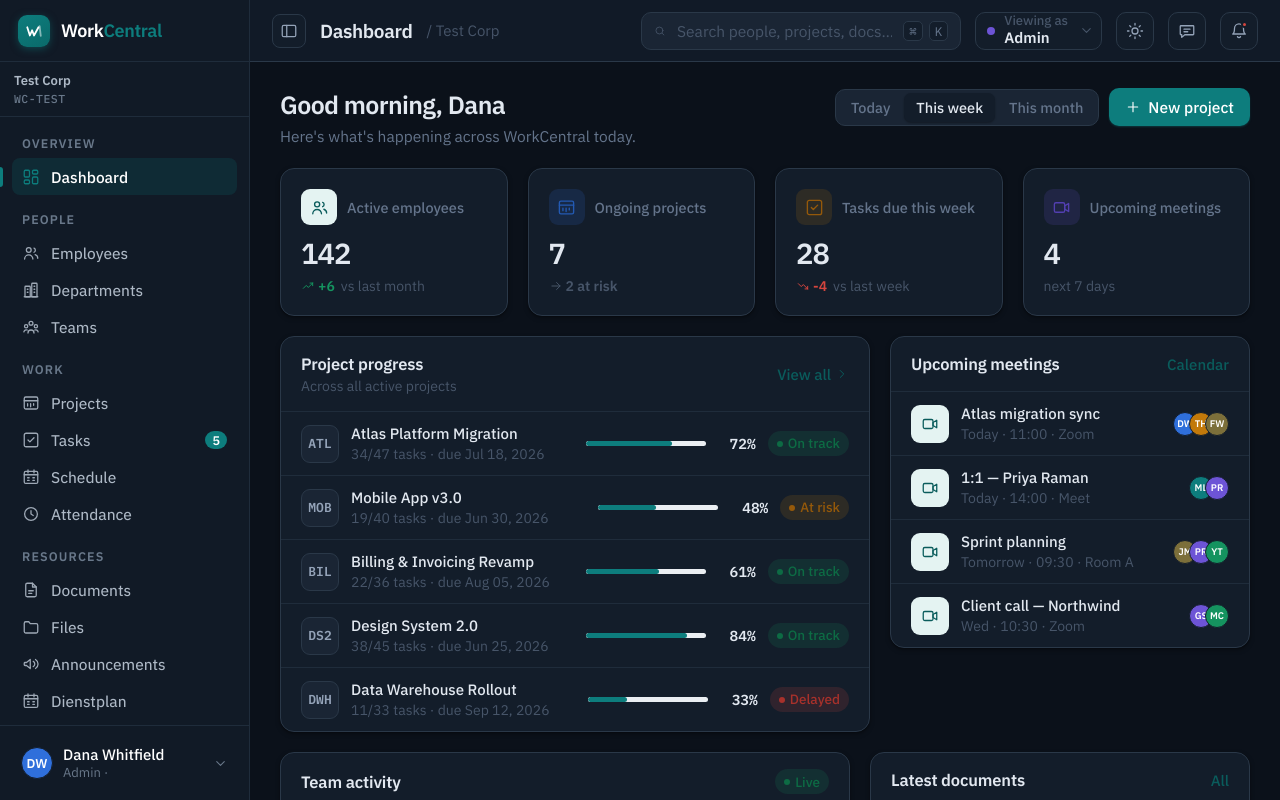
App role-based behavior › role-switcher "Guest" shows LockedPage for employees
Click the element with class "role-switch": click(1039, 30) x1=975 y1=12 x2=1102 y2=50
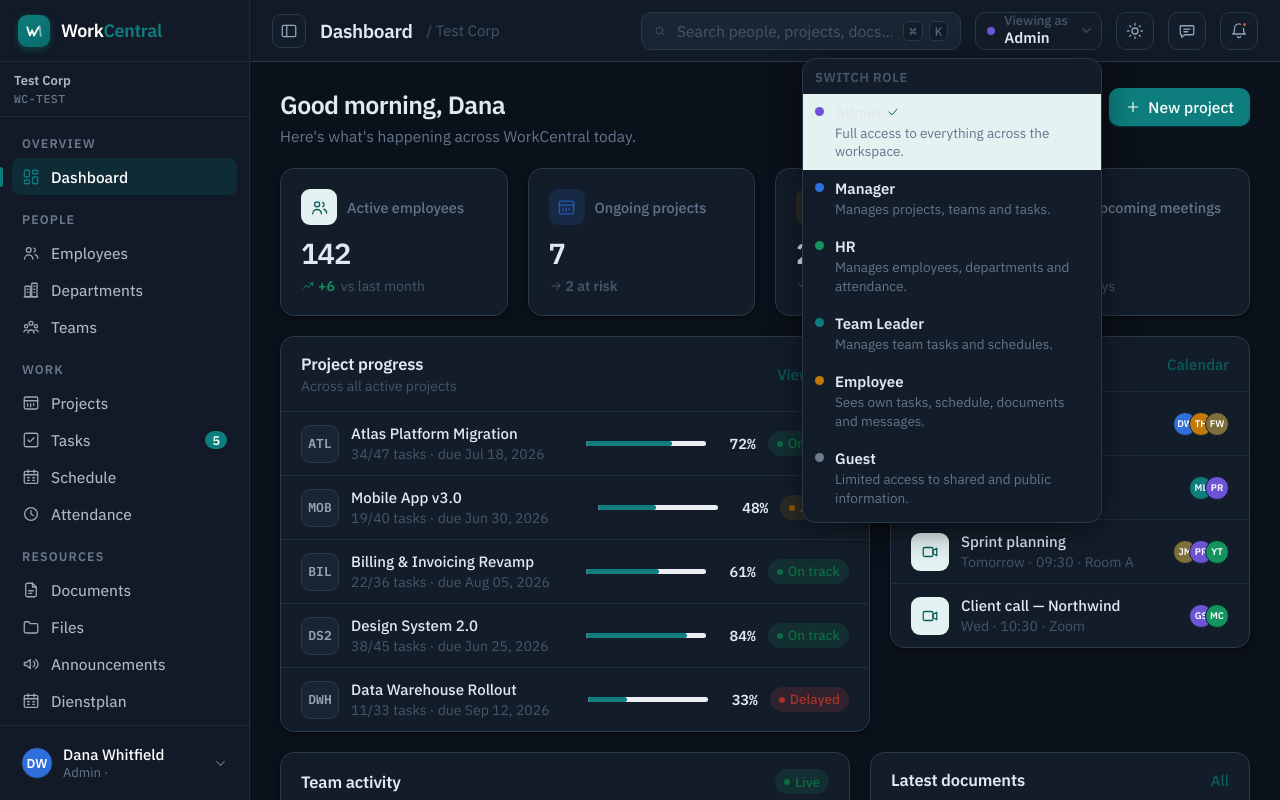
Click the text "Guest": click(855, 458) x1=835 y1=449 x2=876 y2=468
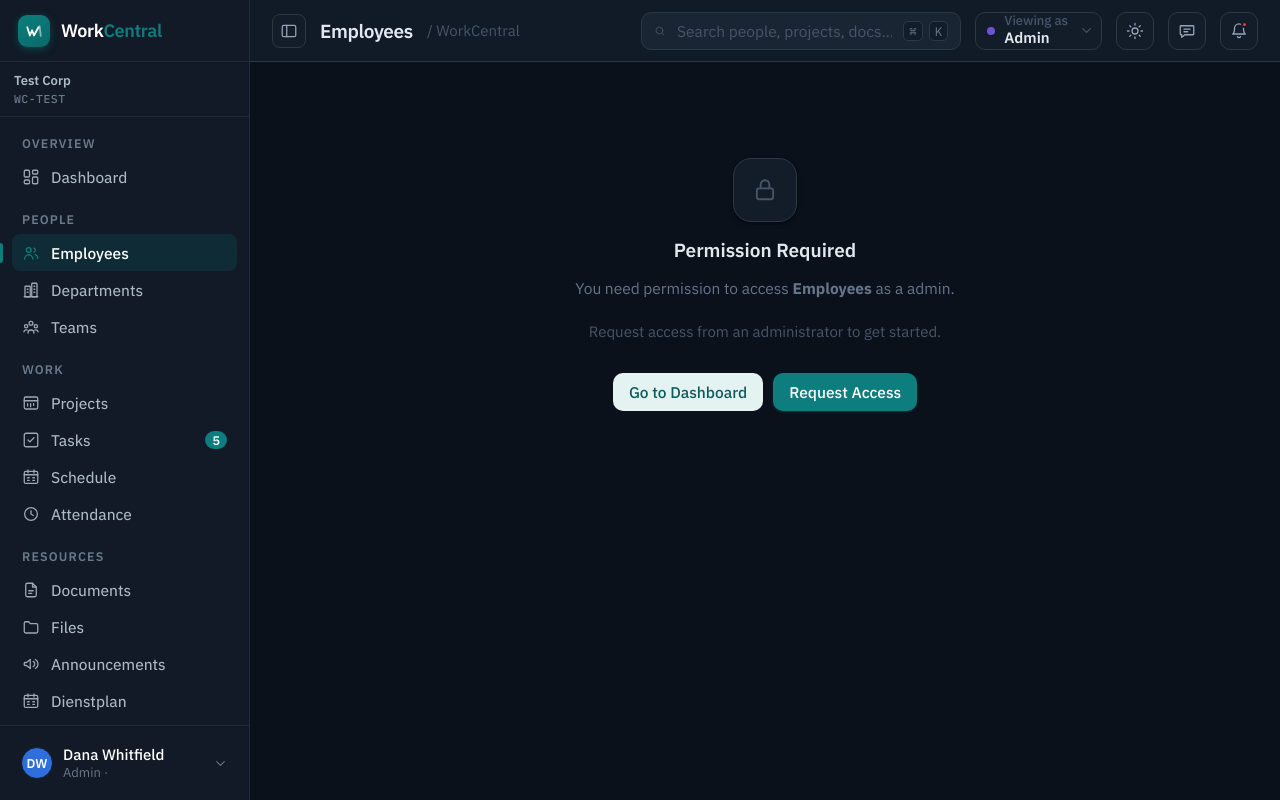
Expected: the heading "Permission Required" is shown, x1=674 y1=238 x2=856 y2=262
